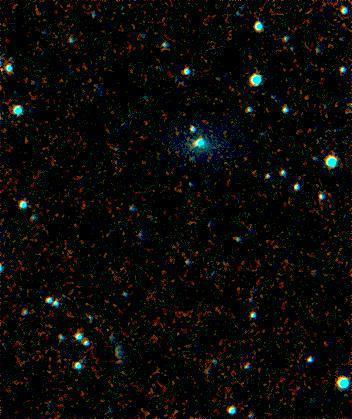star: (179, 128, 209, 158)
